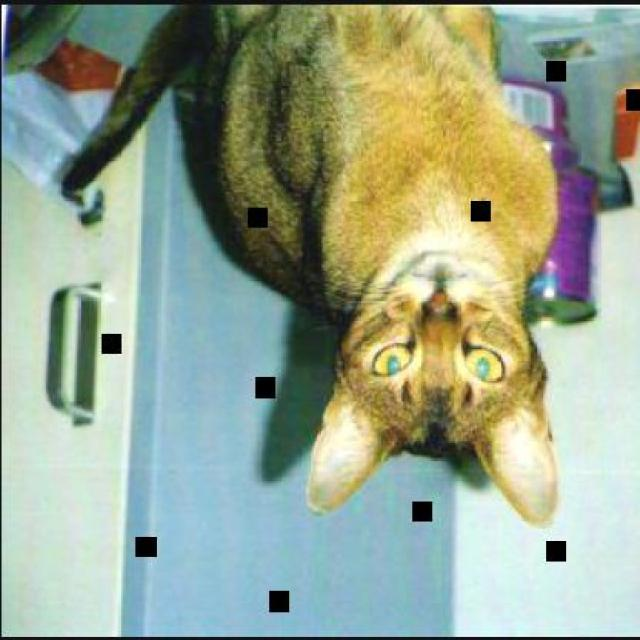unauthorized: (59, 1, 562, 528)
